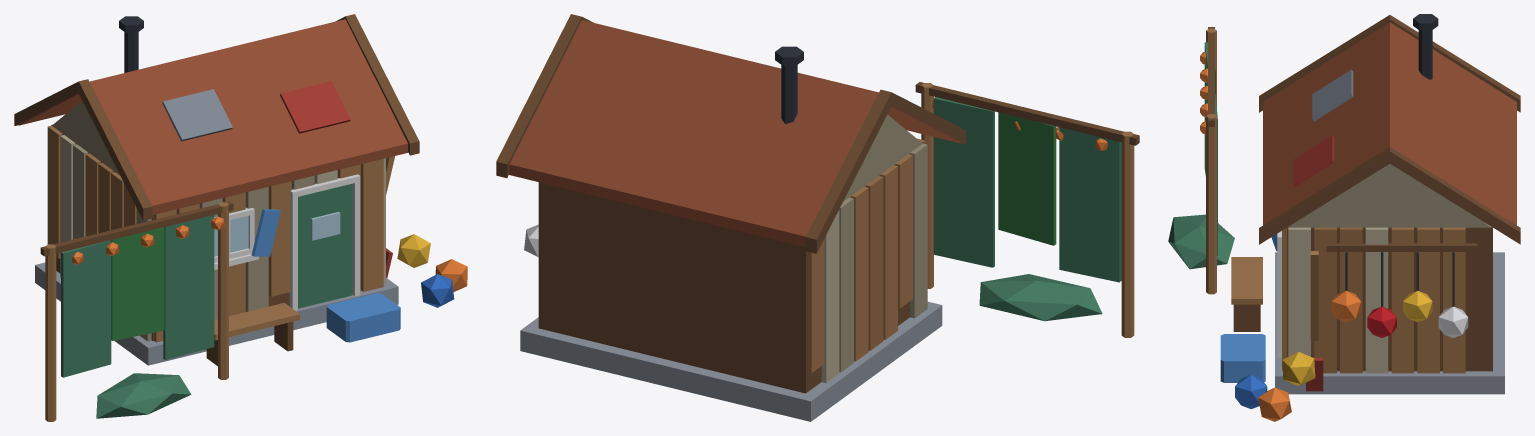
File: odette_hut.glb
3 renders of one model, left to right at view 1: azimuth 30°, elevation 25°; view 2: azimuth 150°, elevation 25°; view 3: azimuth 270°, elevation 25°, orthographic. The views are drawn at different scales.
Visible parts, largest first — view 1: odette_hut; view 2: odette_hut; view 3: odette_hut.
Part boxes in pixels (x1,y1,x2,y2): odette_hut: (14, 14, 467, 421); odette_hut: (496, 14, 1139, 421); odette_hut: (1168, 14, 1520, 421).
Bounding box in the file's own units: 6.71 × 3.97 × 4.45.
